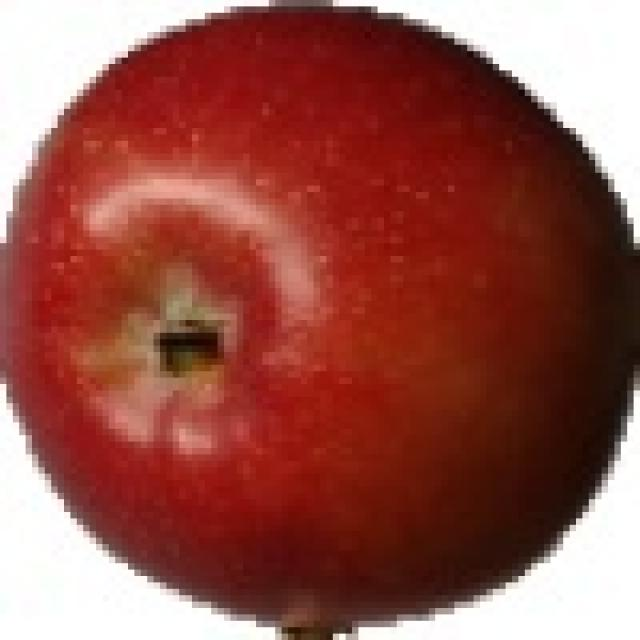apple: (8, 7, 630, 630)
